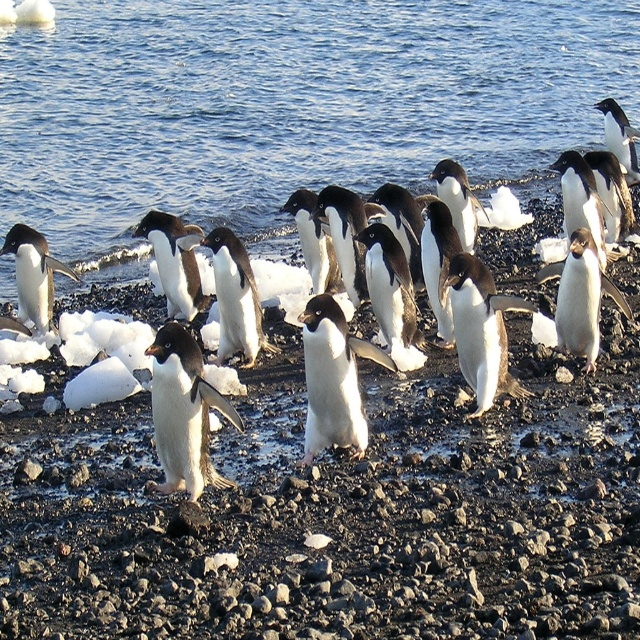Penguin: (146, 309, 254, 505), (441, 243, 543, 429), (528, 229, 634, 373), (289, 296, 374, 474), (347, 222, 430, 370), (203, 217, 281, 364), (130, 207, 221, 327), (0, 218, 84, 335), (277, 189, 353, 302), (419, 192, 469, 357), (546, 150, 612, 275), (311, 174, 367, 311), (366, 182, 436, 291), (427, 152, 483, 248), (584, 148, 639, 241), (595, 88, 640, 174)
